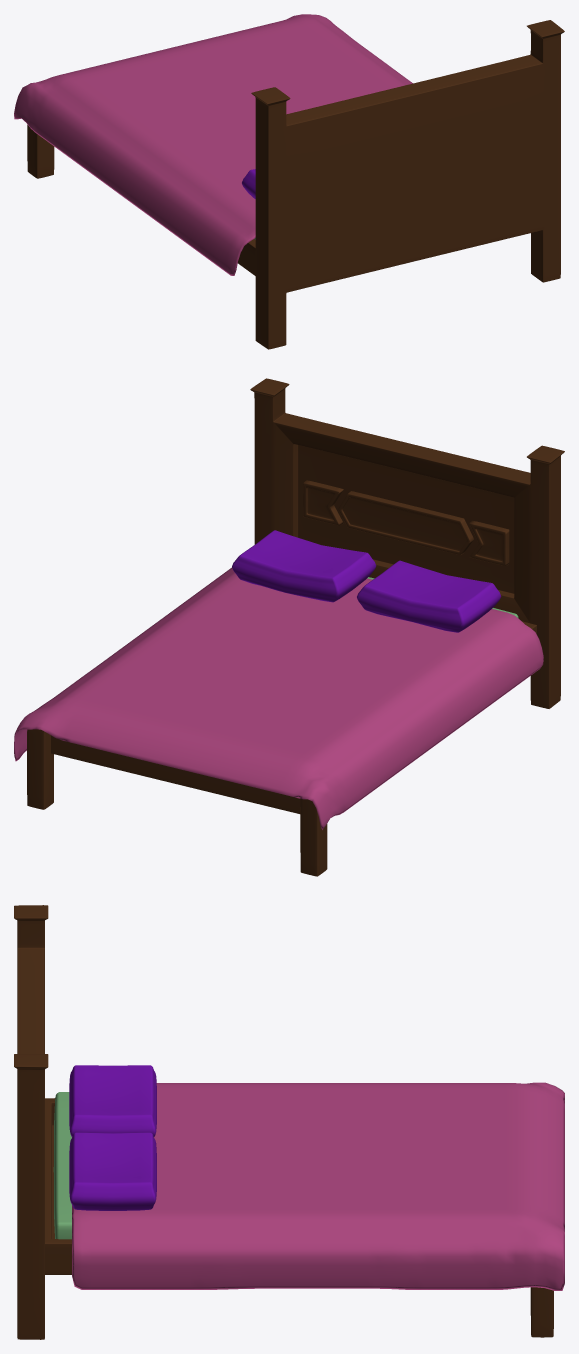
File: PROP_CamaAvo.fbx
3 views of the same model, one above another, from view 1: azimuth 30°, elevation 25°; view 2: azimuth 150°, elevation 25°; view 3: azimuth 270°, elevation 25° (orthographic). The views are drawn at different scales.
Visible parts, largest first — view 1: Base, Cobertor; view 2: Cobertor, Base, Travesseiros; view 3: Cobertor, Base, Travesseiros, Colchão.
Boxes of the visible parts, <box> form: Base: <box>27,20,564,349</box>; Cobertor: <box>14,14,412,275</box>; Cobertor: <box>14,567,543,829</box>; Base: <box>27,378,564,876</box>; Travesseiros: <box>232,530,501,632</box>; Cobertor: <box>72,1082,564,1290</box>; Base: <box>14,905,553,1339</box>; Travesseiros: <box>69,1065,156,1210</box>; Colchão: <box>53,1092,71,1239</box>.
Size of the model in its own units: 16.9 by 13 by 23.6.
